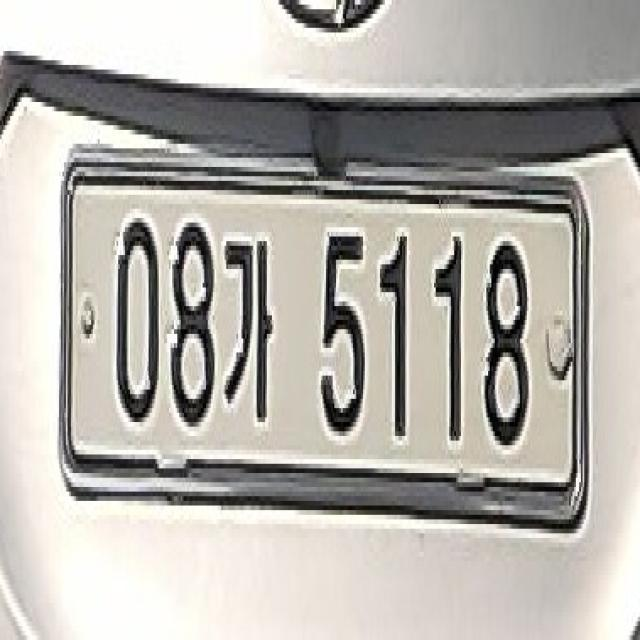plat: (57, 151, 590, 523)
